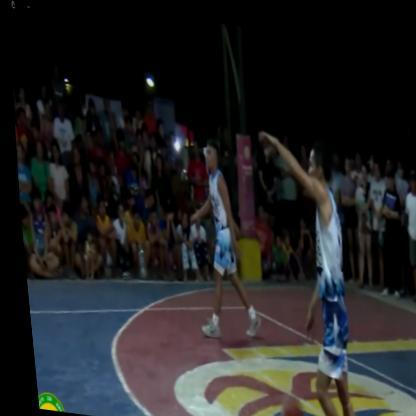basketball: (270, 388, 300, 416)
